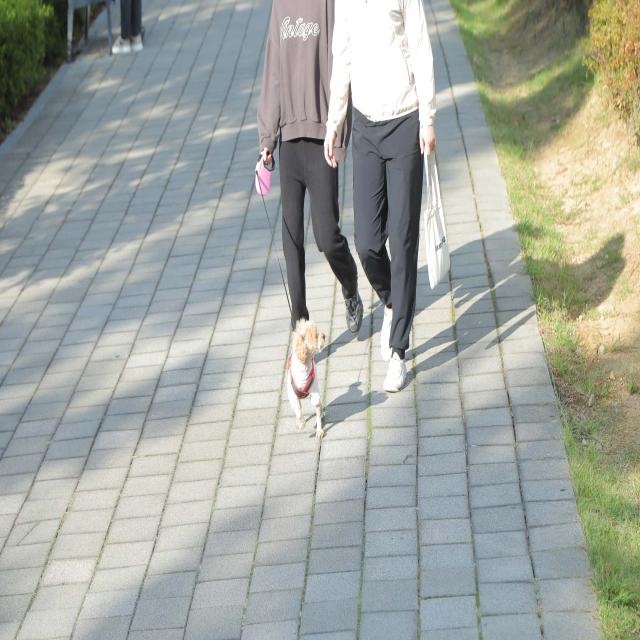Leashed_Dog: (255, 136, 326, 439)
